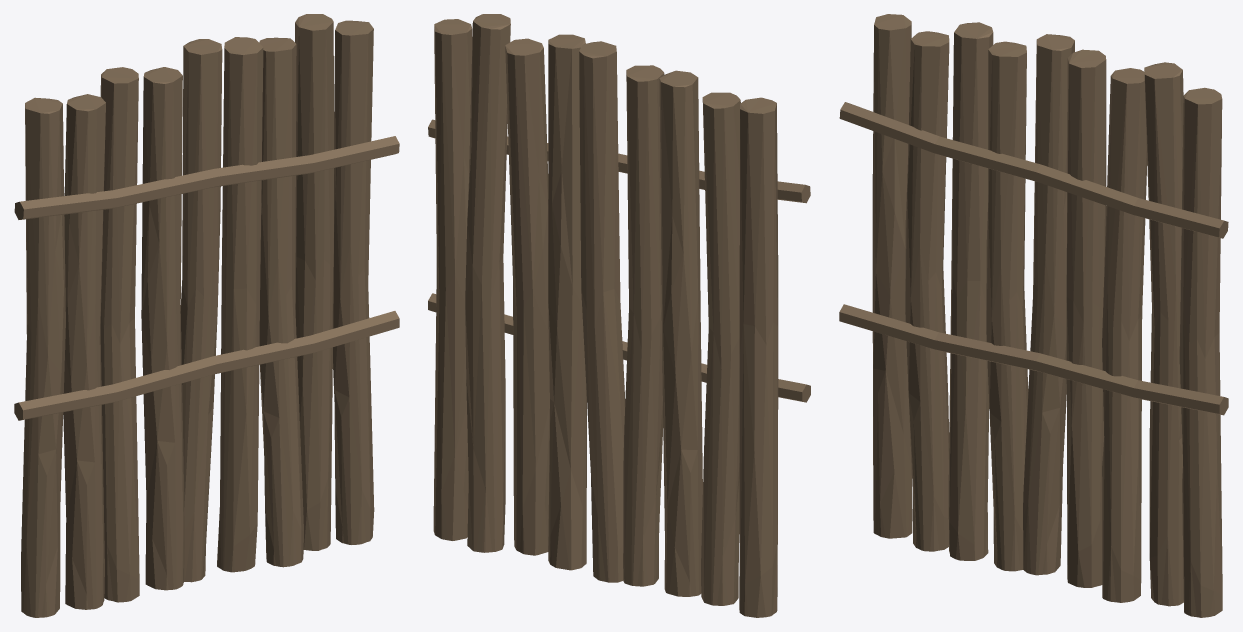
File: fence_c_1m_02.FBX
3 renders of one model, left to right at view 1: azimuth 30°, elevation 25°; view 2: azimuth 150°, elevation 25°; view 3: azimuth 330°, elevation 25°, orthographic.
Parts seen in each view (by area): view 1: fence_c_1m_02; view 2: fence_c_1m_02; view 3: fence_c_1m_02.
Boxes of the visible parts, x1,y1,x2,y2 form: fence_c_1m_02: (14, 14, 399, 617); fence_c_1m_02: (428, 14, 810, 617); fence_c_1m_02: (839, 14, 1228, 617).
Bounding box in the file's own units: 1.1 × 1.47 × 0.1543.
